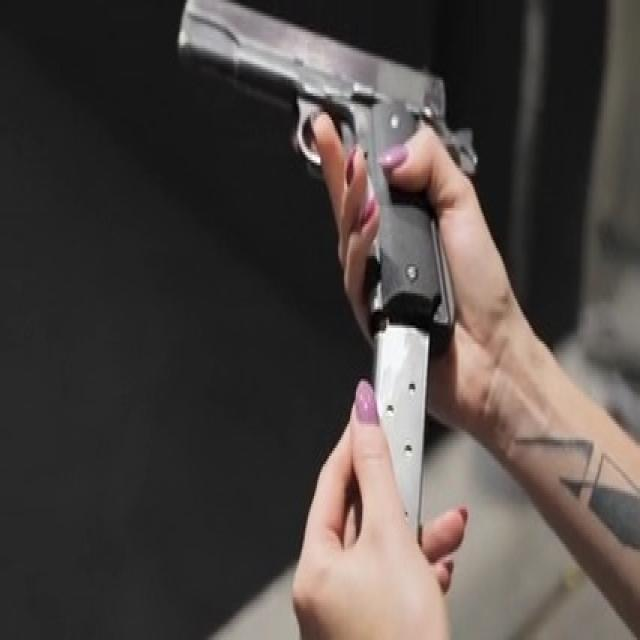Gun_Holder: (165, 0, 466, 586)
